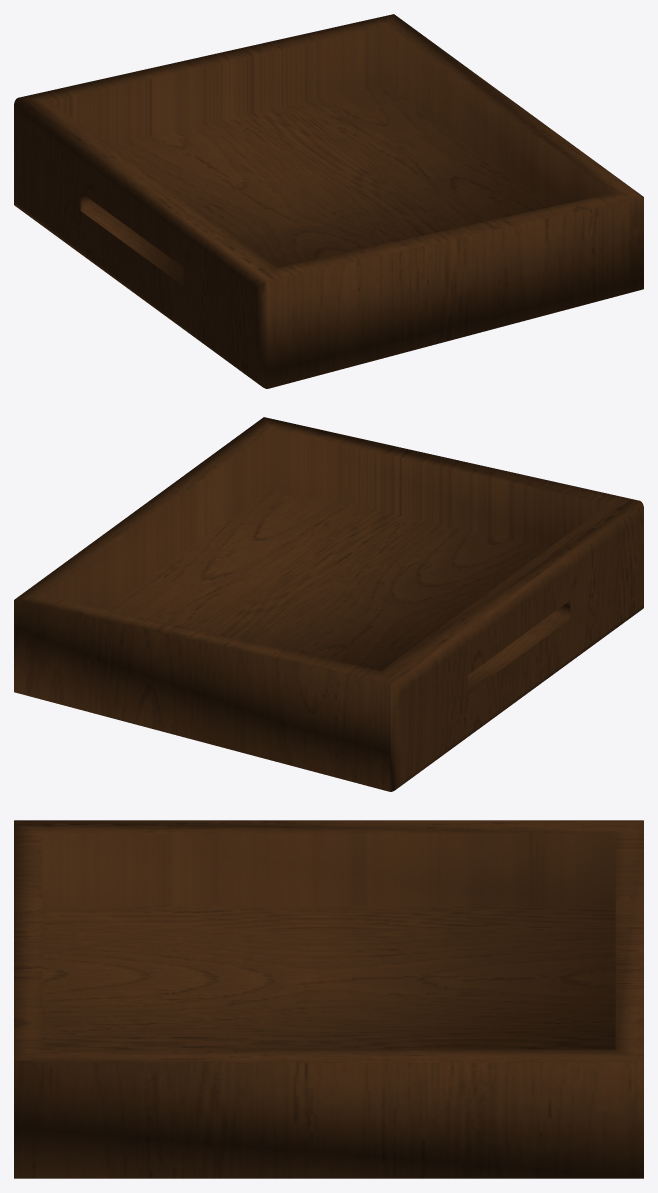
Rendered from Drawer.fbx.
3 views of the same model, one above another, from view 1: azimuth 30°, elevation 25°; view 2: azimuth 150°, elevation 25°; view 3: azimuth 270°, elevation 25° (orthographic). The views are drawn at different scales.
Parts seen in each view (by area): view 1: Drawers_1; view 2: Drawers_1; view 3: Drawers_1.
Boxes of the visible parts, left/top/right/bottom form: Drawers_1: left=14, top=14, right=643, bottom=388; Drawers_1: left=14, top=417, right=643, bottom=791; Drawers_1: left=14, top=820, right=643, bottom=1178.
Size of the model in its own units: 52.49 by 14.15 by 59.27.
